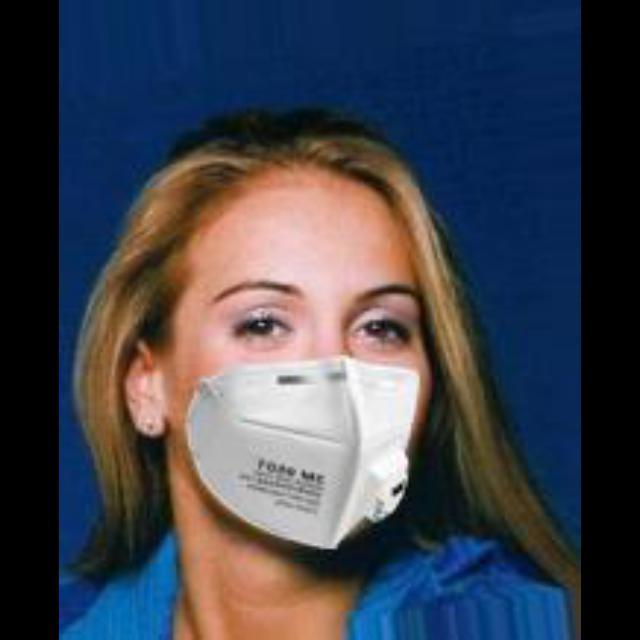suspicion: (123, 152, 489, 598)
